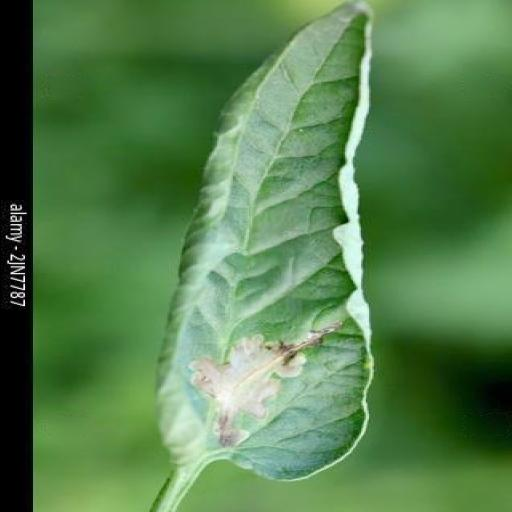Leaf Miner: (149, 2, 372, 486)
